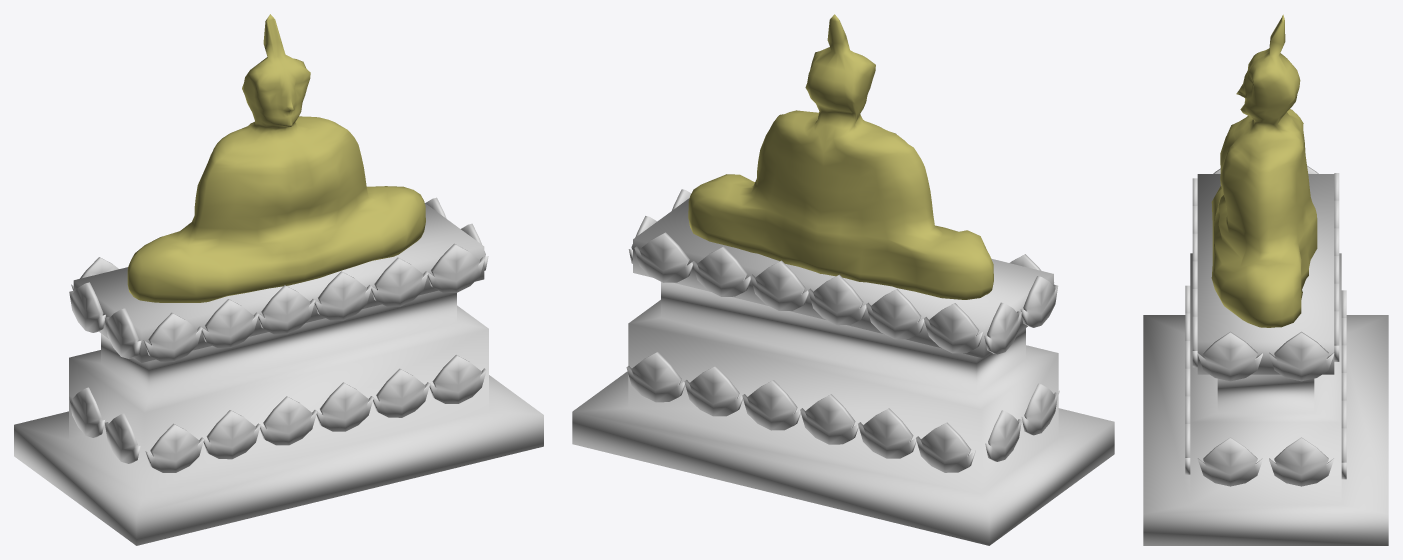
Rendered from buddha.glb.
3 views of the same model, side by side, from view 1: azimuth 30°, elevation 25°; view 2: azimuth 150°, elevation 25°; view 3: azimuth 270°, elevation 25° (orthographic). The views are drawn at different scales.
Visible parts, largest first — view 1: BuddhaBase, BuddhaStatue; view 2: BuddhaBase, BuddhaStatue; view 3: BuddhaBase, BuddhaStatue.
Boxes of the visible parts, x1,y1,x2,y2 form: BuddhaBase: [14, 197, 543, 545]; BuddhaStatue: [127, 14, 425, 302]; BuddhaBase: [572, 189, 1114, 545]; BuddhaStatue: [688, 14, 993, 299]; BuddhaBase: [1143, 165, 1388, 545]; BuddhaStatue: [1211, 14, 1317, 327].
Size of the model in its own units: 7.8 by 7.89 by 4.06.
